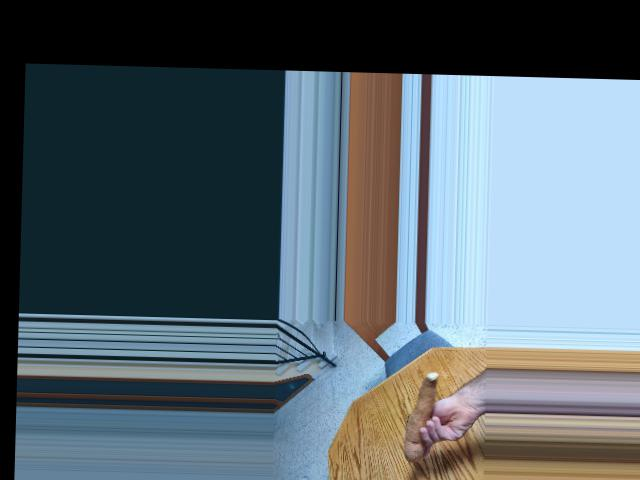sweet_potato: (399, 375, 442, 458)
